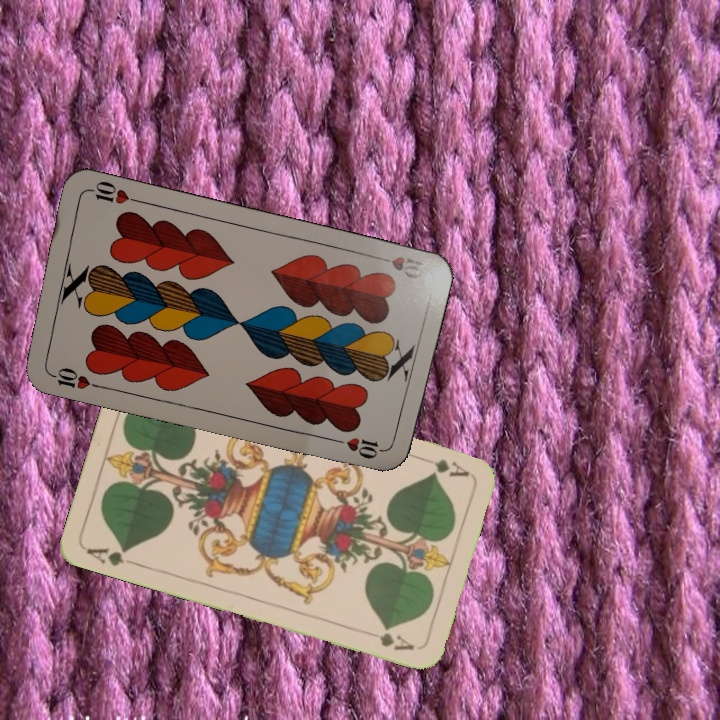GA: (414, 452, 471, 479), (82, 543, 141, 569)
H10: (370, 252, 429, 282), (44, 363, 102, 392)
